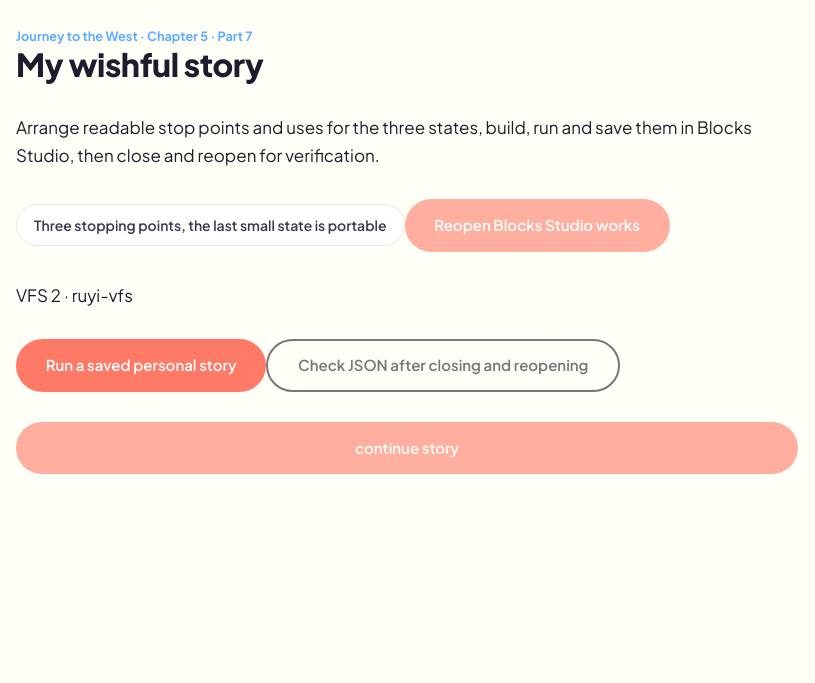
JourneyWestC5FinalPartsPage › requires the same saved Studio P7 project before peer evidence
Check: the text "Blocks Studio, then close and reopen" is shown, box [16,116,752,166]
Click the button "Three stopping points, the last small state is portable" at (210, 225), box [16,204,404,246]
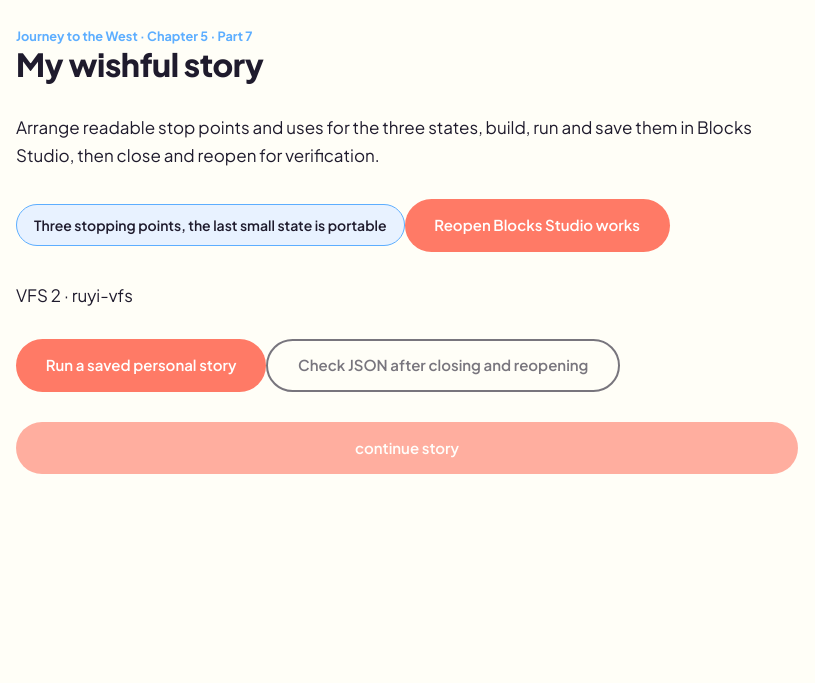
Check: the text "VFS 2 · ruyi-vfs" is shown, box [16,284,133,306]
Click the button "Run a saved personal story" at (141, 366), box [16,339,266,392]
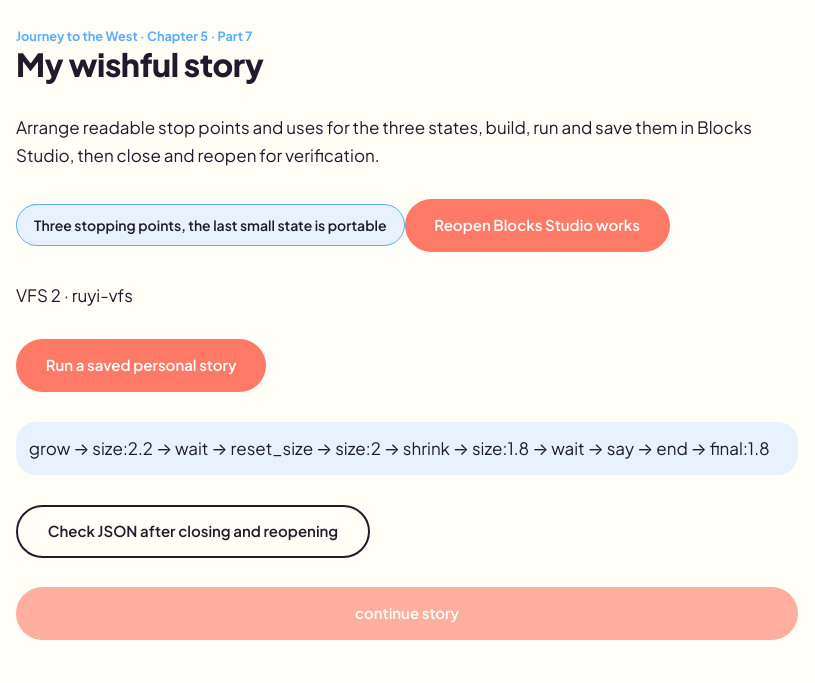
Check: the button with test id "jtw-c5p7-reopen" is enabled
Click the button with test id "jtw-c5p7-reopen" at (193, 531), box [16,505,370,558]
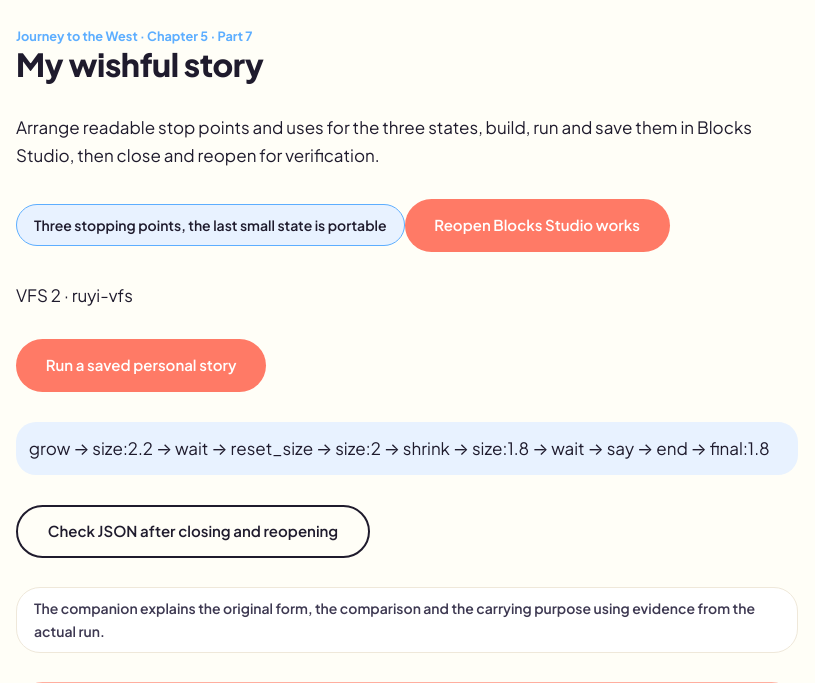
Check: the button "companion explains the original form" is shown
Click the button "companion explains the original form" at (394, 608), box [16,587,798,653]
(page scrolled)
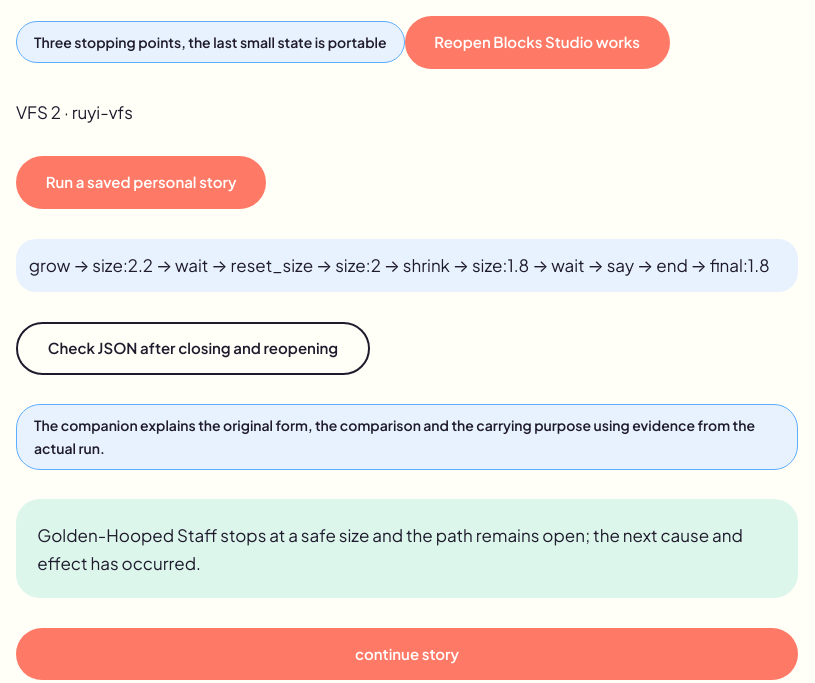
Check: the button with test id "jtw-c5-final-complete" is enabled, box [16,628,798,680]
